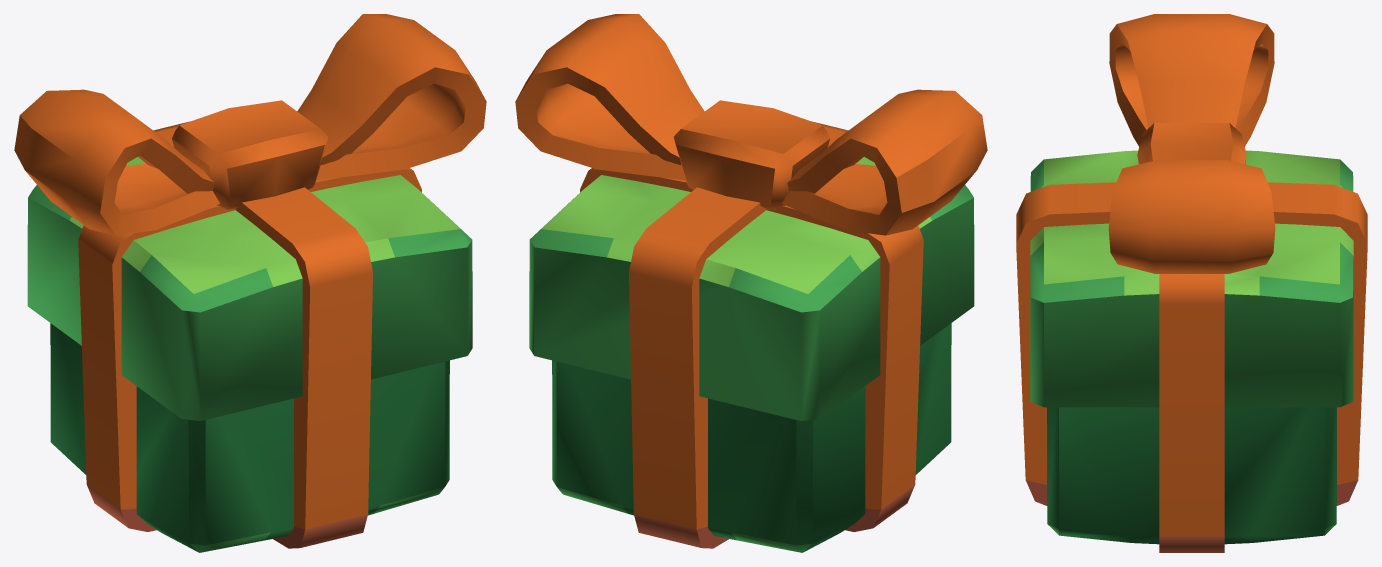
The model's file is presente_natal_verde_fita_laranja_pacote.glb.
3 views of the same model, side by side, from view 1: azimuth 30°, elevation 25°; view 2: azimuth 150°, elevation 25°; view 3: azimuth 270°, elevation 25° (orthographic). The views are drawn at different scales.
Visible parts, largest first — view 1: presente_natal_verde_fita_laranja_pacote; view 2: presente_natal_verde_fita_laranja_pacote; view 3: presente_natal_verde_fita_laranja_pacote.
Boxes of the visible parts, x1,y1,x2,y2 form: presente_natal_verde_fita_laranja_pacote: (14,14,486,552); presente_natal_verde_fita_laranja_pacote: (515,14,987,552); presente_natal_verde_fita_laranja_pacote: (1016,14,1367,552).
Size of the model in its own units: 0.1984 by 0.2 by 0.1542.
1 material, 1 textured.
